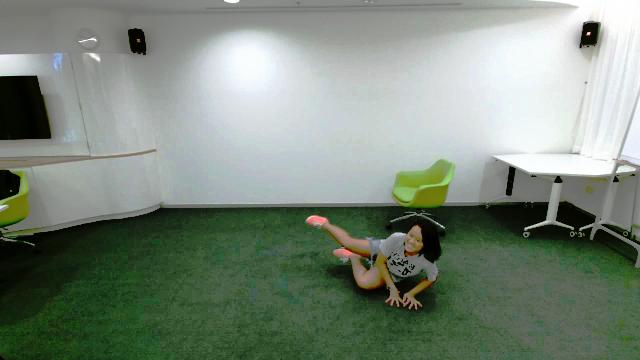jatuh: (302, 207, 446, 313)
